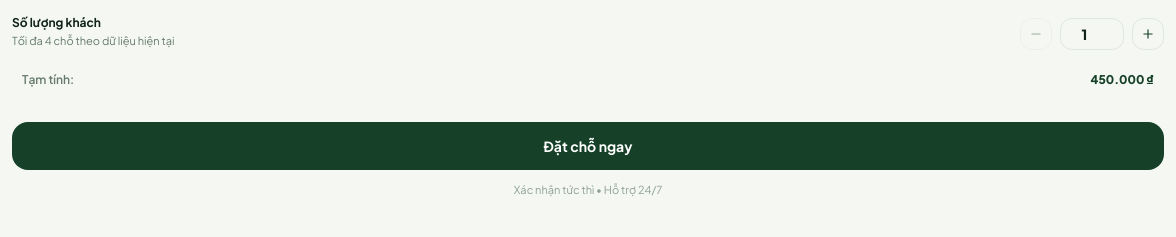
Test case: BookingPanel › renders accessible validation for 1.5
Replace the text in the number field labelled "Số lượng khách" with "1.5" at (1092, 34), box [1060, 18, 1124, 50]
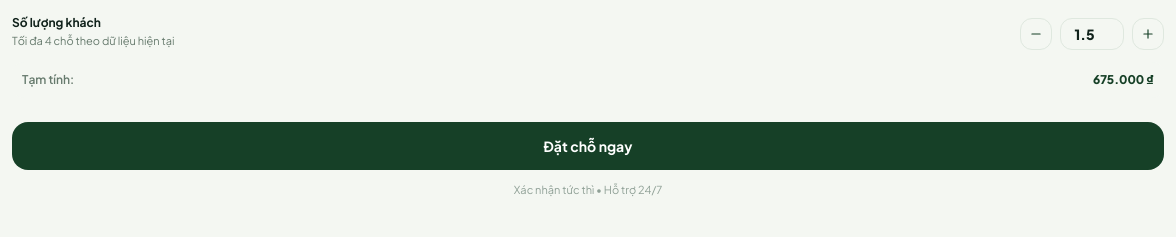
Click the button "Đặt chỗ ngay" at (588, 146), box [12, 122, 1164, 170]
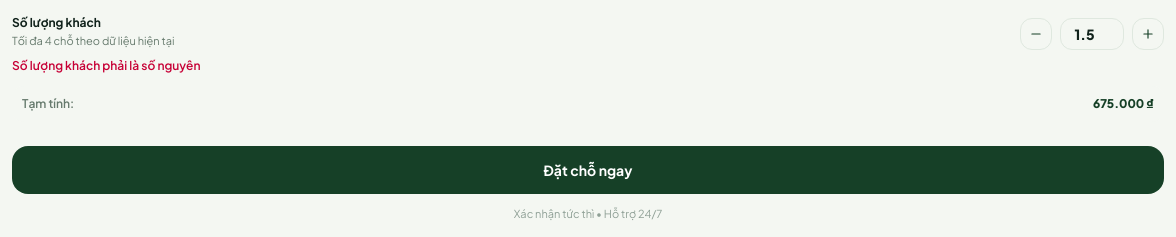
Result: the message reads "Số lượng khách phải là số nguyên" at [12, 58, 200, 72]
